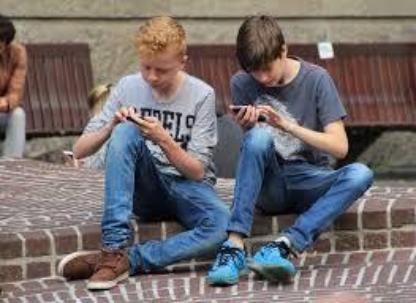person: (71, 13, 233, 298), (224, 6, 379, 303)
